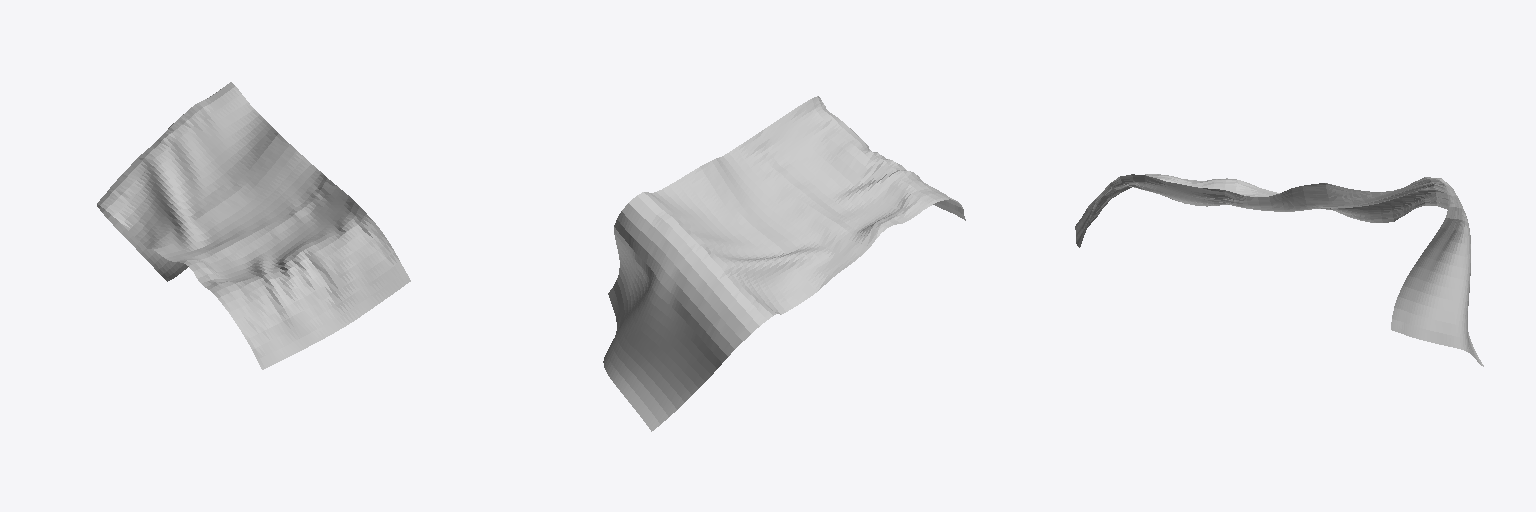
File: drapé4.obj
The picture shows the model from 3 angles: view 1: azimuth 30°, elevation 25°; view 2: azimuth 150°, elevation 25°; view 3: azimuth 270°, elevation 25°; orthographic projection.
Parts seen in each view (by area): view 1: Plane004; view 2: Plane004; view 3: Plane004.
Boxes of the visible parts, <box> form: Plane004: <box>97,82,410,369</box>; Plane004: <box>603,96,965,431</box>; Plane004: <box>1075,174,1483,366</box>.
Size of the model in its own units: 27.81 by 26.49 by 47.11.